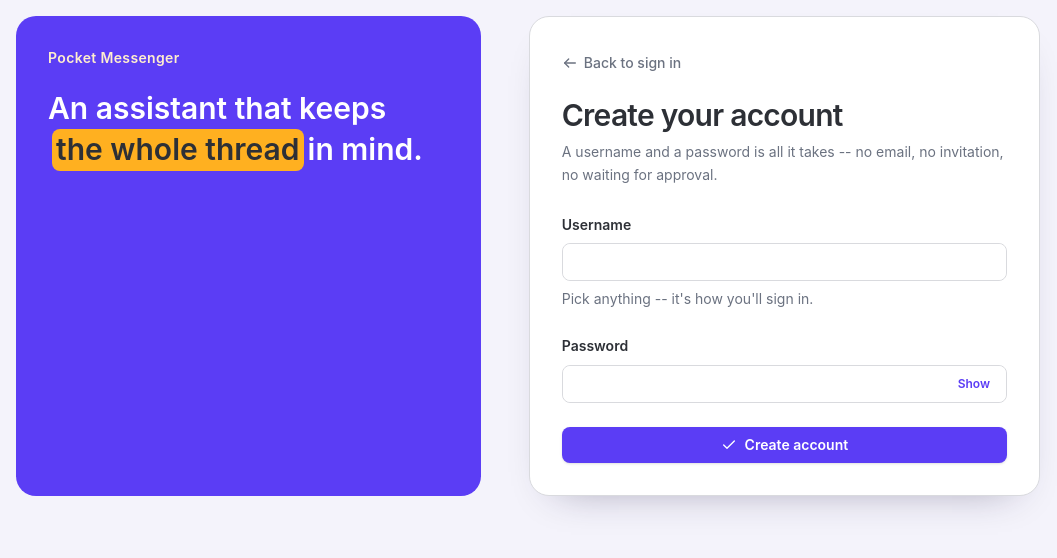
Scenario: Signup screen › [AC-004] shows inline validation naming the missing field and sends no request when empty
The image size is (1057, 558).
Click the button "Create account": point(784, 444) [562,426,1007,462]
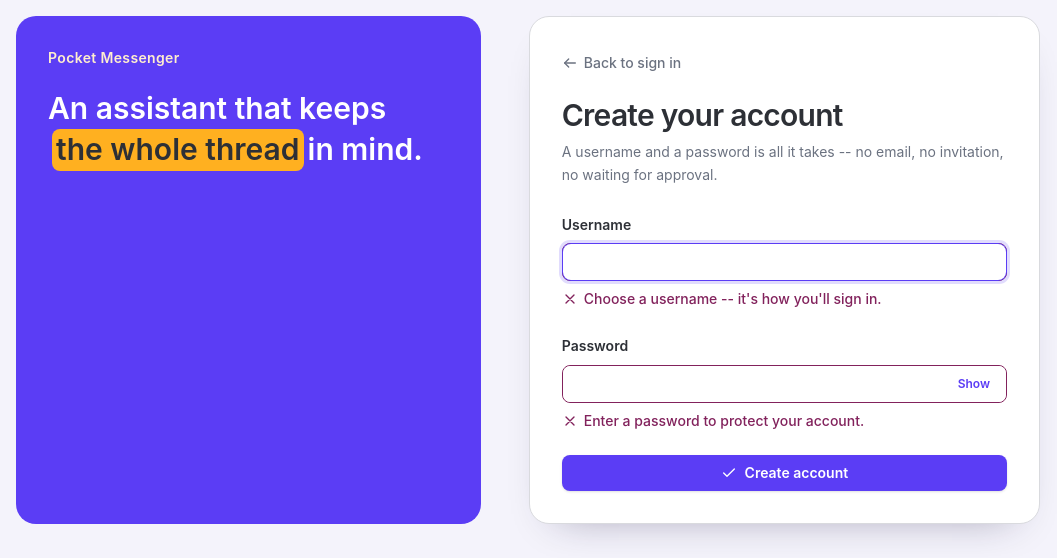
Result: the text "Choose a username -- it's how you'll sign in." is shown at [562,290,882,306]
Result: the text "Enter a password to protect your account." is shown at [562,412,864,428]
